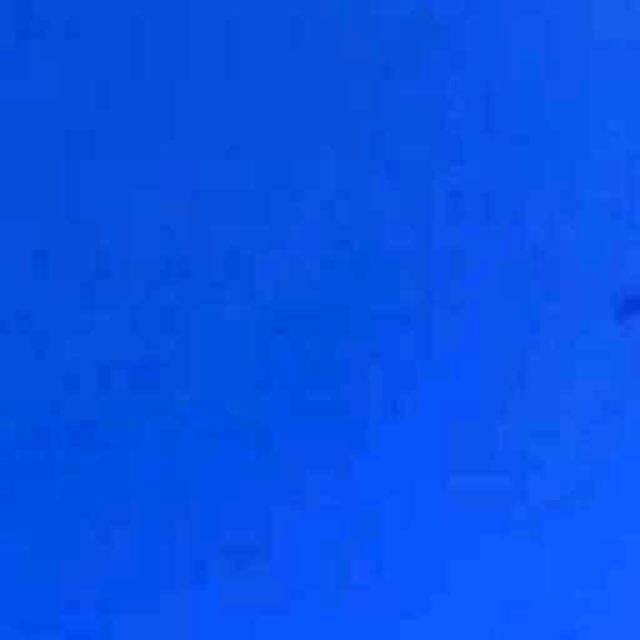drone: (531, 120, 640, 474)
